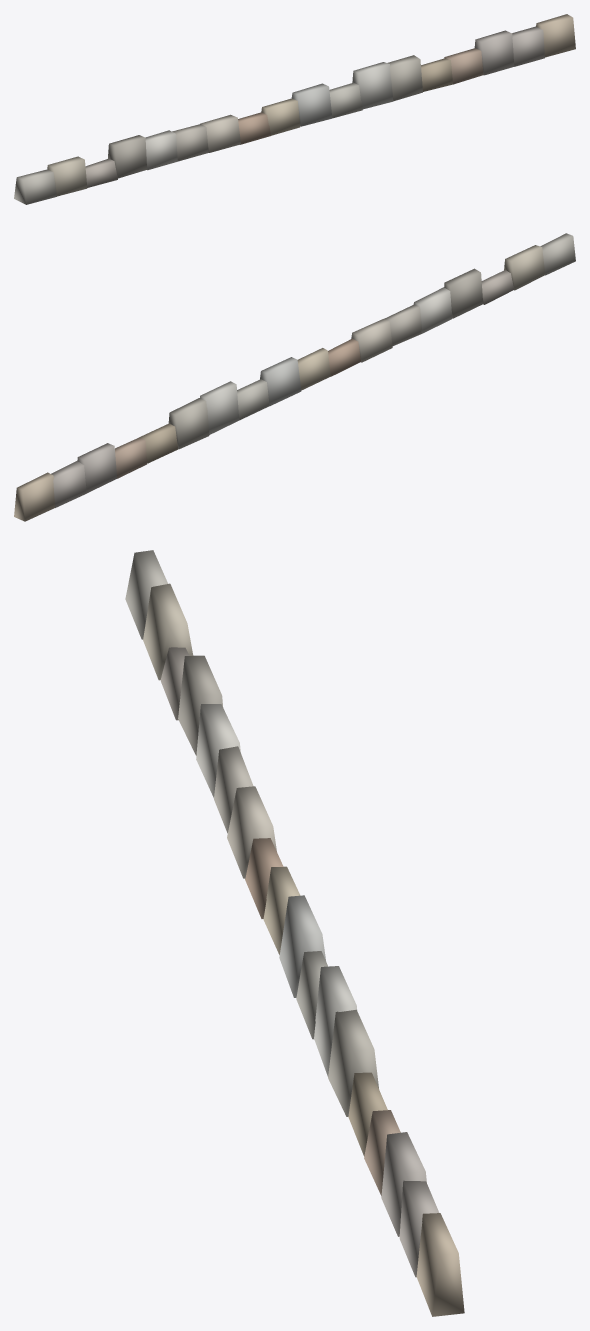
File: farm_14_0_far.glb
The picture shows the model from 3 angles, top to bottom: view 1: azimuth 30°, elevation 25°; view 2: azimuth 210°, elevation 25°; view 3: azimuth 270°, elevation 25°; orthographic projection. The views are drawn at different scales.
Parts seen in each view (by area): view 1: geometry_0; view 2: geometry_0; view 3: geometry_0.
Part boxes in pixels (left/top/right/bottom): geometry_0: left=14, top=14, right=575, bottom=204; geometry_0: left=14, top=233, right=575, bottom=521; geometry_0: left=125, top=550, right=464, bottom=1316.
Size of the model in its own units: 27.94 by 3.27 by 6.53.
